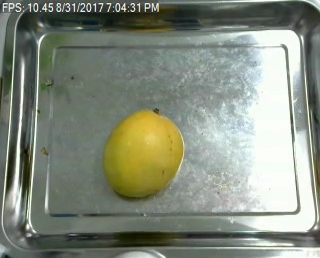Mango: (105, 109, 184, 198)
